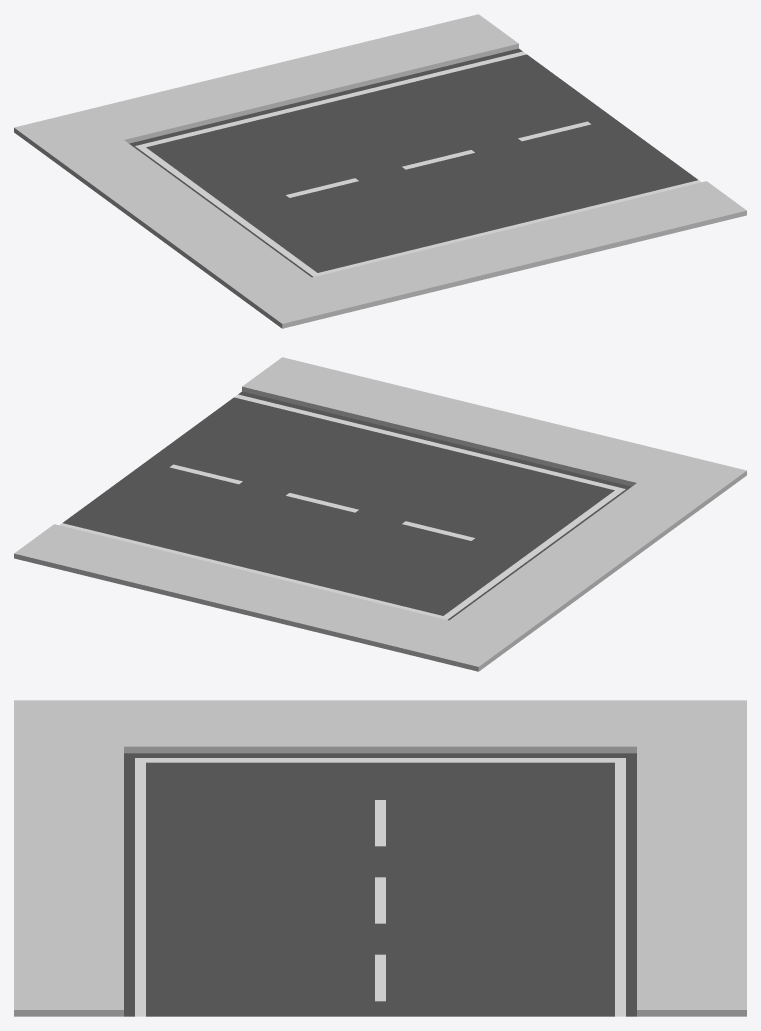
File: SPW_Urban_Road 2way_04.gltf
The picture shows the model from 3 angles, top to bottom: view 1: azimuth 30°, elevation 25°; view 2: azimuth 150°, elevation 25°; view 3: azimuth 270°, elevation 25°; orthographic projection. The views are drawn at different scales.
Visible parts, largest first — view 1: SPW_Urban_Road_2way_04; view 2: SPW_Urban_Road_2way_04; view 3: SPW_Urban_Road_2way_04.
Part boxes in pixels (<box>): SPW_Urban_Road_2way_04: <box>14,14,746,328</box>; SPW_Urban_Road_2way_04: <box>14,357,746,671</box>; SPW_Urban_Road_2way_04: <box>14,700,746,1016</box>.
Bounding box in the file's own units: 787 × 7.87 × 787.
Materials: 1 (1 with a texture image).
